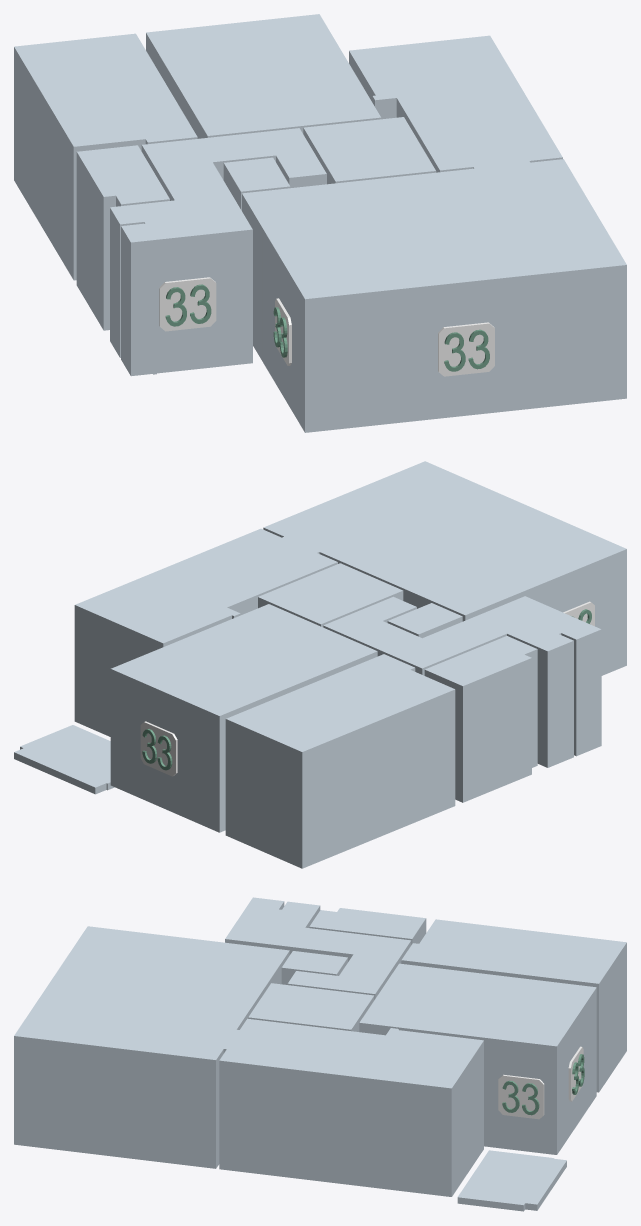
3 renders of one model, top to bottom at view 1: azimuth 30°, elevation 25°; view 2: azimuth 150°, elevation 25°; view 3: azimuth 270°, elevation 25°, orthographic. The views are drawn at different scales.
Parts seen in each view (by area): view 1: g_7, g_3, g_1, g_0, g_6, g_2, g_4, g_23, g_17, g_5; view 2: g_1, g_7, g_0, g_6, g_3, g_2, g_4, g_8, g_5, g_14; view 3: g_7, g_6, g_0, g_1, g_3, g_8, g_4, g_2, g_11, g_5.
Part boxes in pixels (x1,y1,x2,y2): g_7: (242, 159, 626, 432); g_3: (110, 128, 326, 376); g_1: (14, 33, 197, 280); g_0: (146, 14, 381, 138); g_6: (349, 35, 562, 172); g_2: (76, 145, 169, 330); g_4: (303, 117, 436, 184); g_23: (159, 277, 216, 331); g_17: (438, 322, 494, 376); g_5: (223, 157, 290, 210); g_1: (225, 654, 455, 868); g_7: (263, 461, 626, 675); g_0: (110, 604, 377, 832); g_6: (74, 528, 337, 736); g_3: (323, 596, 601, 767); g_2: (424, 636, 537, 802); g_4: (258, 563, 403, 627); g_8: (14, 725, 114, 794); g_5: (387, 603, 462, 638); g_14: (140, 721, 177, 776); g_7: (14, 926, 289, 1168); g_6: (219, 1018, 483, 1196); g_0: (359, 963, 596, 1154); g_1: (401, 919, 626, 1092); g_3: (225, 897, 411, 999); g_8: (457, 1150, 566, 1211); g_4: (248, 983, 374, 1031); g_2: (309, 908, 426, 944); g_11: (498, 1074, 544, 1119); g_5: (281, 951, 347, 984).
Size of the model in its own units: 10.08 by 2.74 by 13.16.
